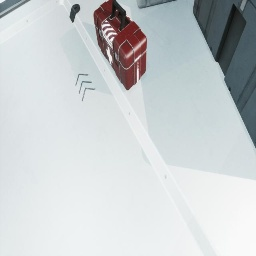FirstAidBox ,: (94, 0, 147, 90)
